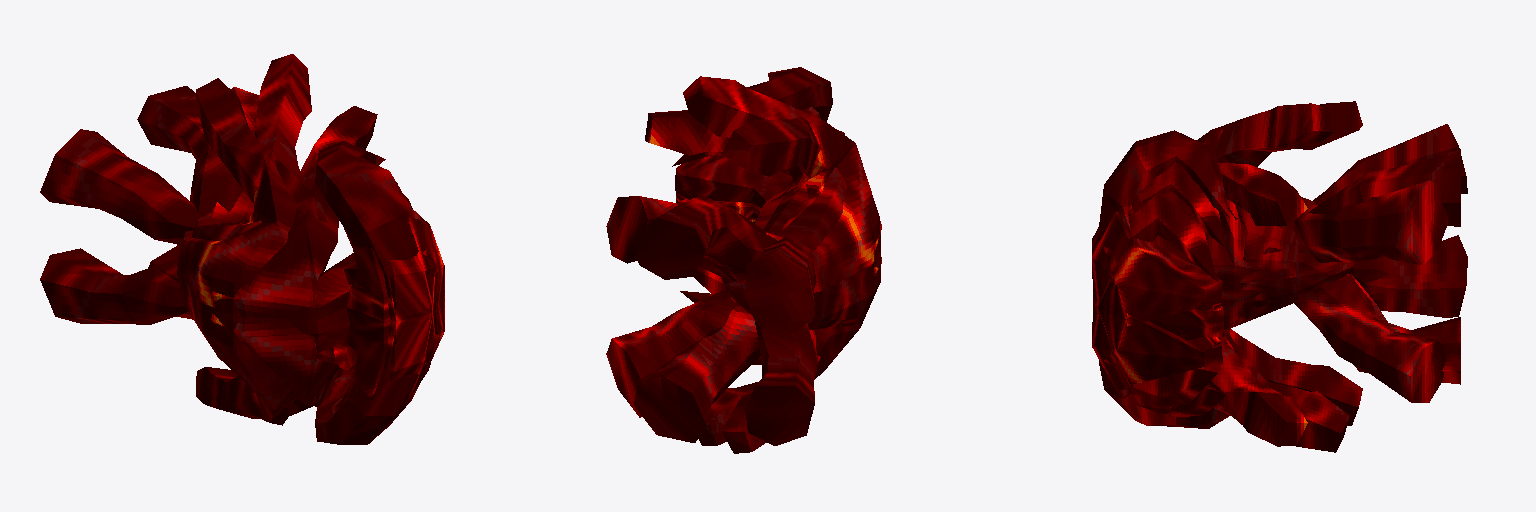
3 views of the same model, side by side, from view 1: azimuth 30°, elevation 25°; view 2: azimuth 150°, elevation 25°; view 3: azimuth 270°, elevation 25° (orthographic).
Parts seen in each view (by area): view 1: Step2, Step1, Step0; view 2: Step0, Step2, Step1; view 3: Step2, Step1, Step0.
Boxes of the visible parts, box(x1,y1,x2,y2) form: Step2: box(40, 78, 444, 406); Step1: box(40, 106, 444, 444); Step0: box(137, 54, 397, 425); Step0: box(634, 76, 880, 445); Step2: box(606, 67, 881, 445); Step1: box(606, 110, 881, 453); Step2: box(1092, 101, 1467, 446); Step1: box(1092, 124, 1467, 428); Step0: box(1132, 103, 1460, 452).
Bounding box in the file's own units: 1.42 × 1.83 × 1.75.
1 materials, 1 textured.